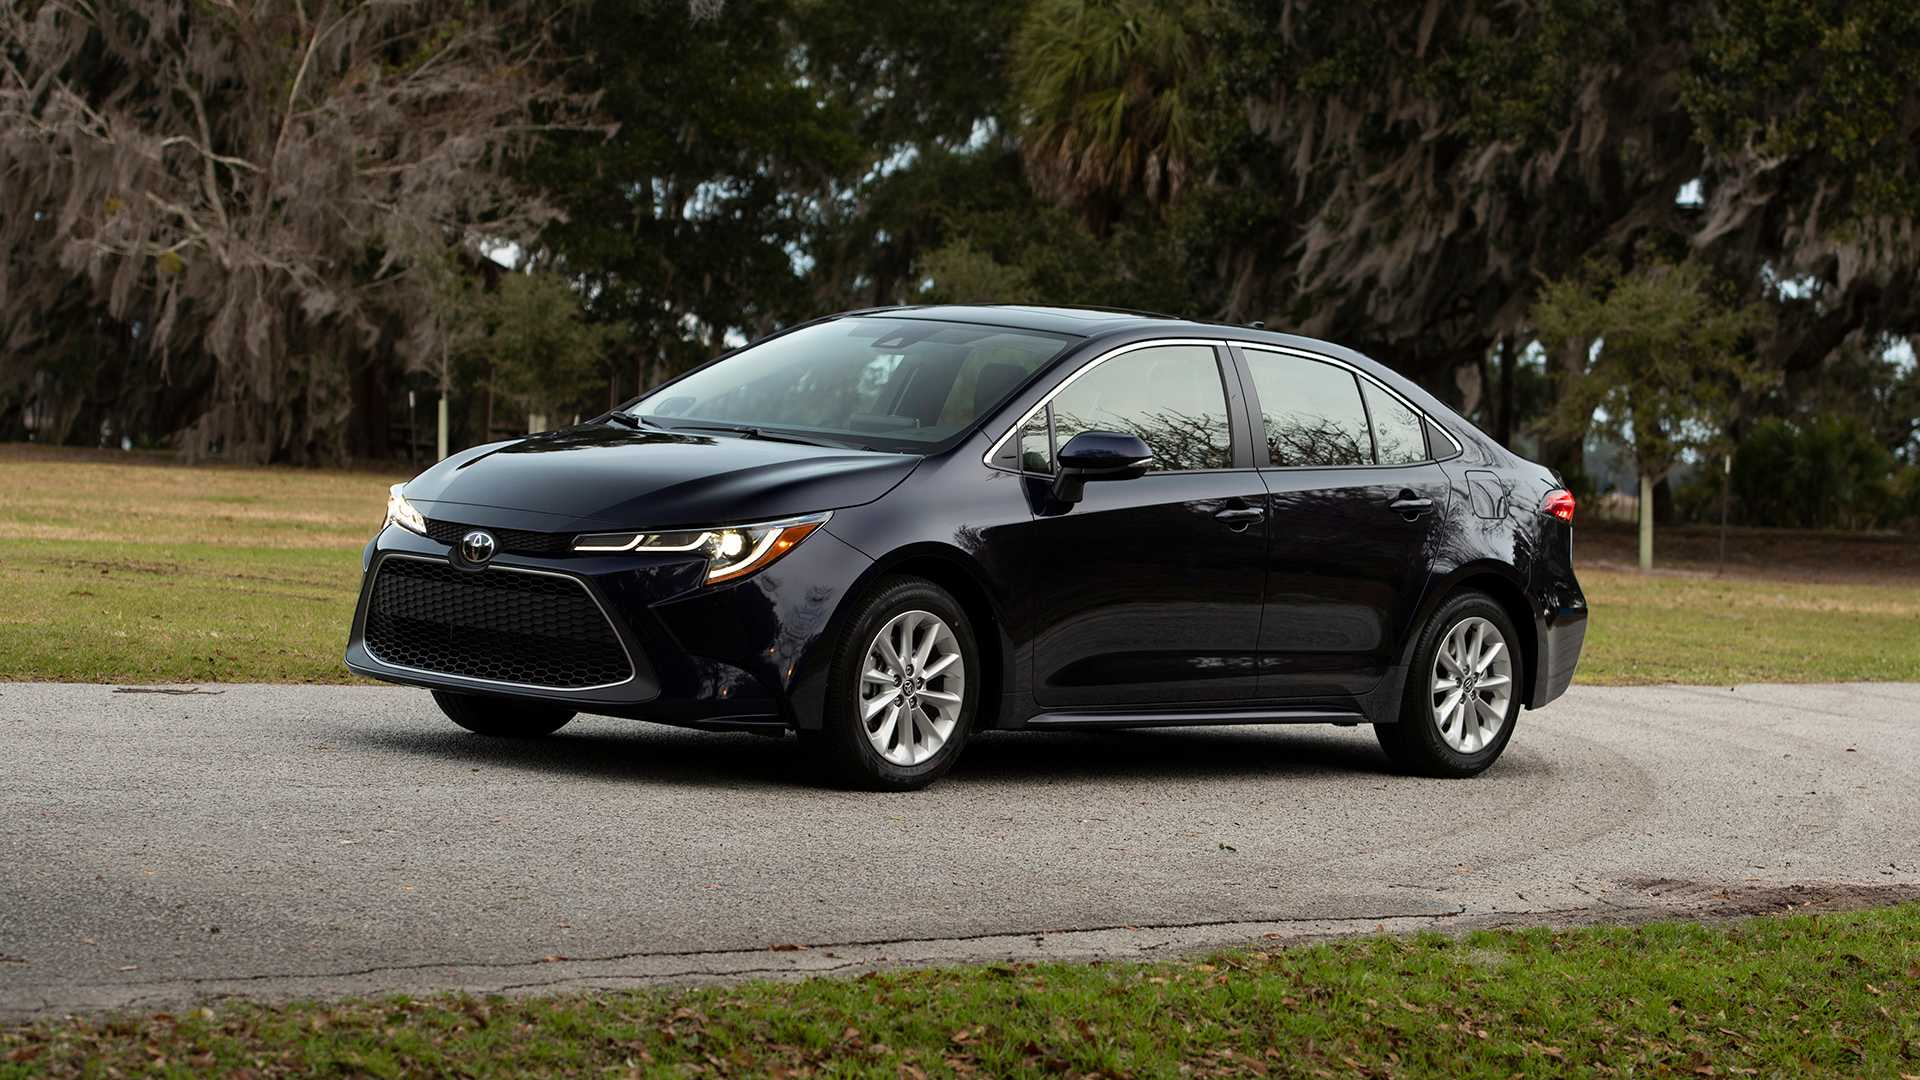car: (342, 301, 1588, 793)
